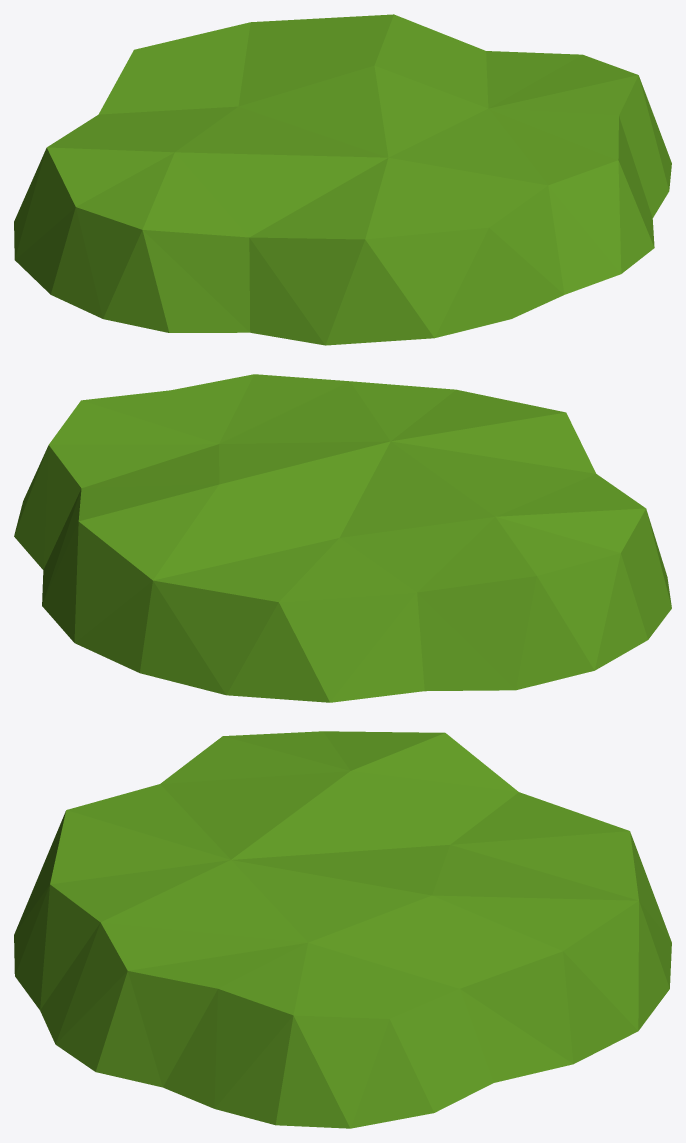
File: um_grass001.FBX
The picture shows the model from 3 angles, top to bottom: view 1: azimuth 30°, elevation 25°; view 2: azimuth 150°, elevation 25°; view 3: azimuth 270°, elevation 25°; orthographic projection. The views are drawn at different scales.
Parts seen in each view (by area): view 1: um_grass001; view 2: um_grass001; view 3: um_grass001.
Part boxes in pixels (x1,y1,x2,y2): um_grass001: (14, 14, 671, 345); um_grass001: (14, 374, 671, 702); um_grass001: (14, 731, 671, 1128).
Size of the model in its own units: 1.3 by 0.2058 by 1.12.
